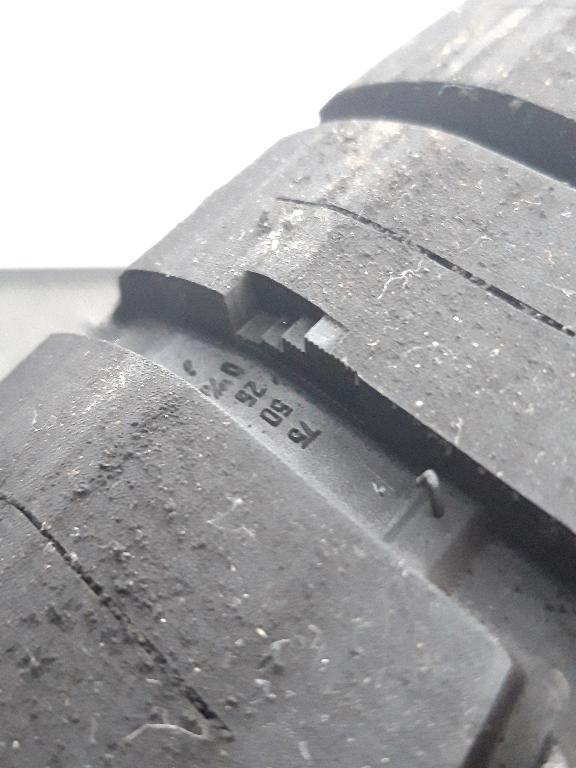temoin:75: (212, 263, 354, 411)
